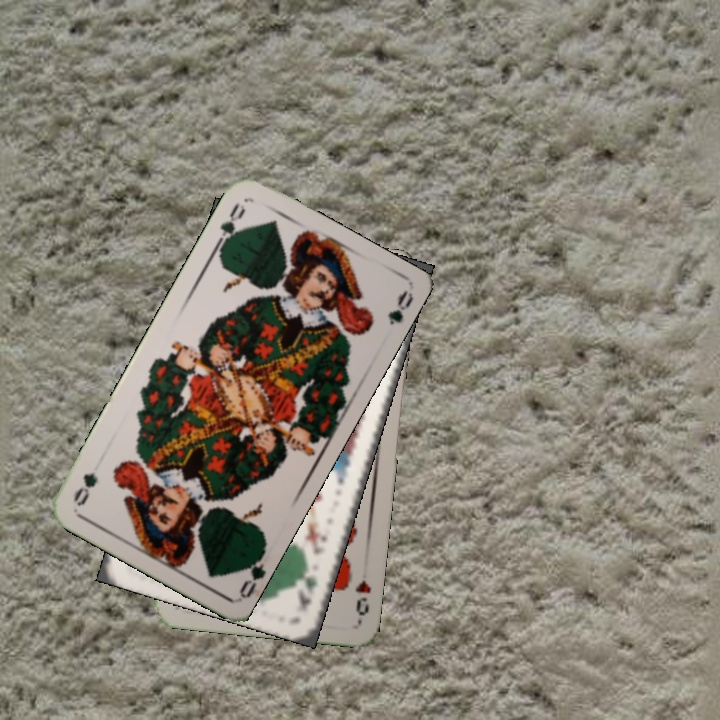GK: (293, 557, 321, 612)
GO: (210, 198, 248, 254), (234, 543, 269, 600)
H9: (351, 575, 373, 618)
